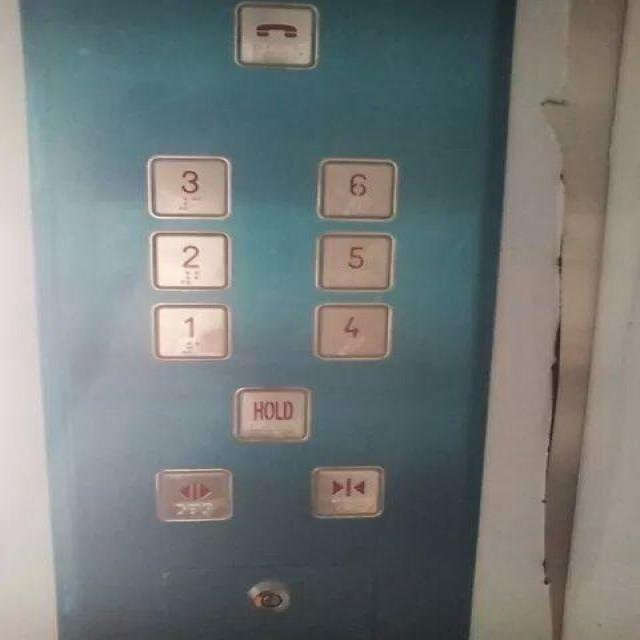1: (145, 298, 231, 363)
2: (145, 227, 231, 292)
3: (143, 151, 232, 222)
4: (308, 297, 393, 362)
5: (311, 229, 396, 294)
6: (313, 155, 399, 222)
call: (229, 0, 323, 72)
close: (306, 462, 386, 520)
keyhole: (241, 574, 299, 620)
open: (149, 462, 235, 527)
text_hold: (229, 382, 315, 447)
